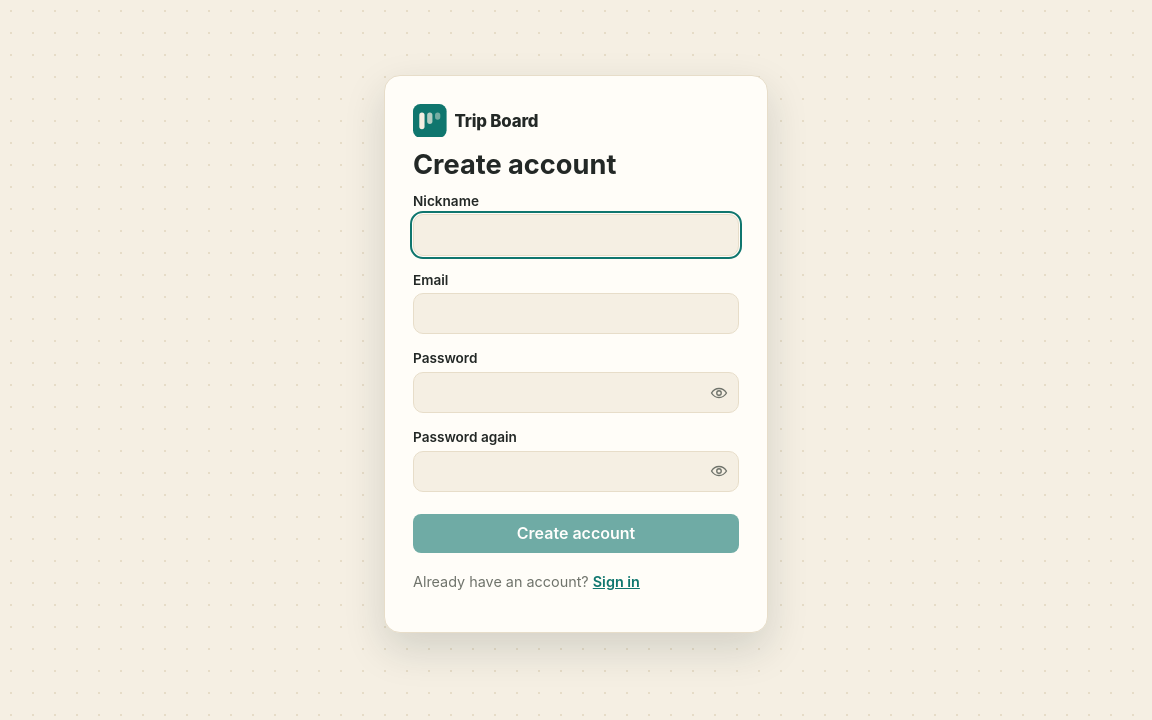
the sign-up password › says how strong the password is, and changes its mind as it grows
The image size is (1152, 720).
Type "1234aA" into the password field labelled "Password" at (576, 393), box [413,372,739,413]
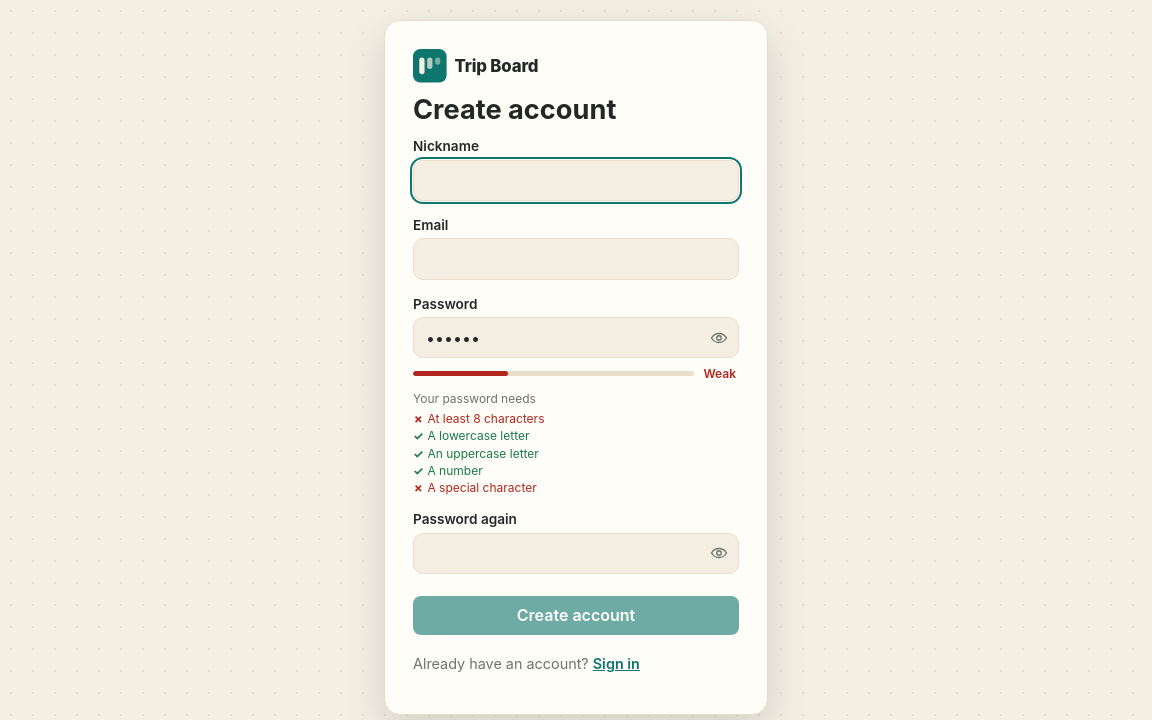
Now the message reads "Weak", box [703,366,736,381]
Clear the password field labelled "Password" at (576, 338), box [413,317,739,358]
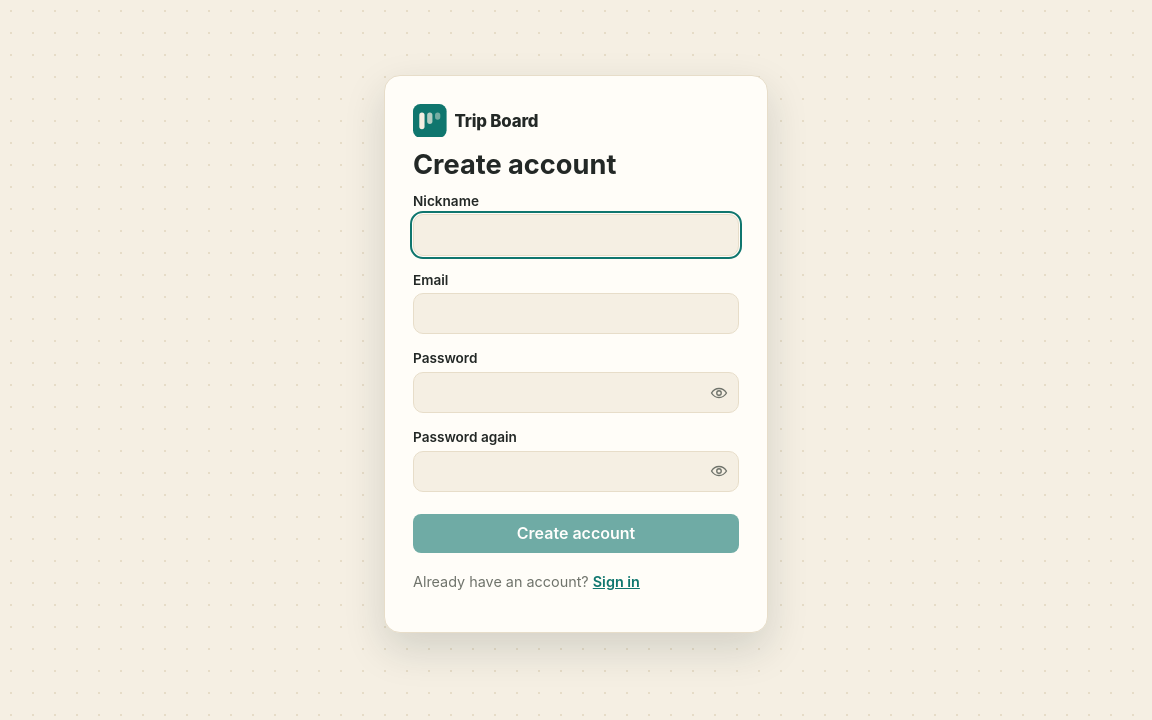
Type "Trip2026!" into the password field labelled "Password" at (576, 393), box [413,372,739,413]
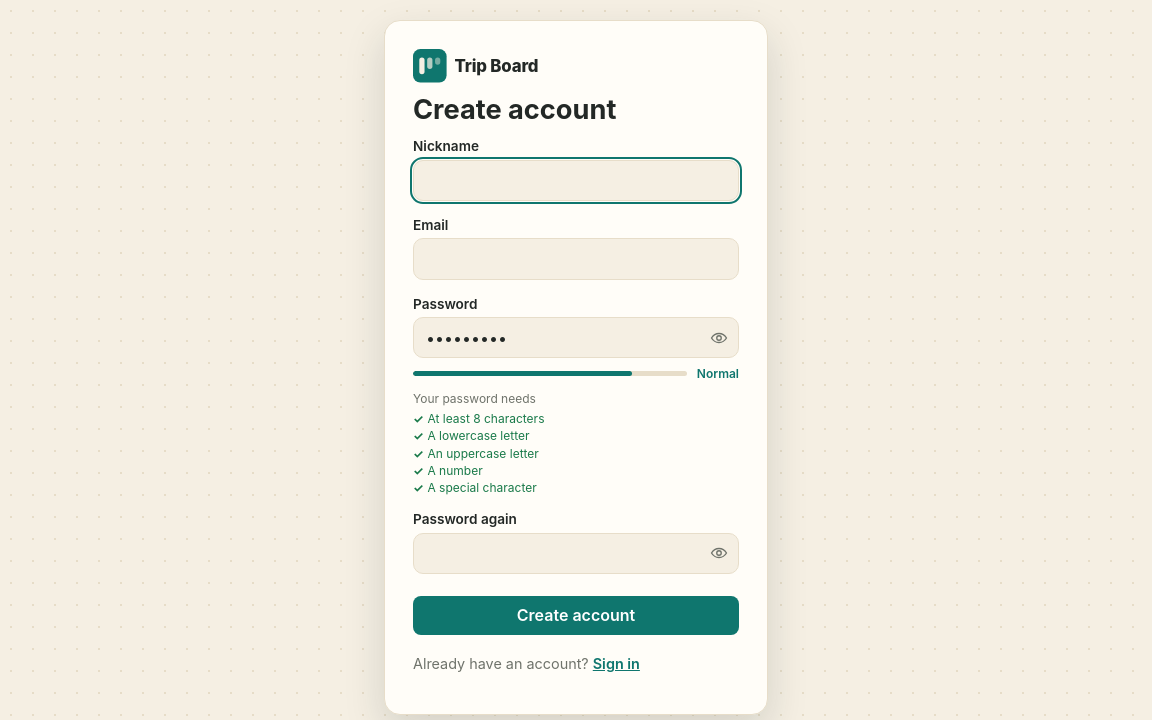
Now the message reads "Normal", box [697,366,739,381]
Clear the password field labelled "Password" at (576, 338), box [413,317,739,358]
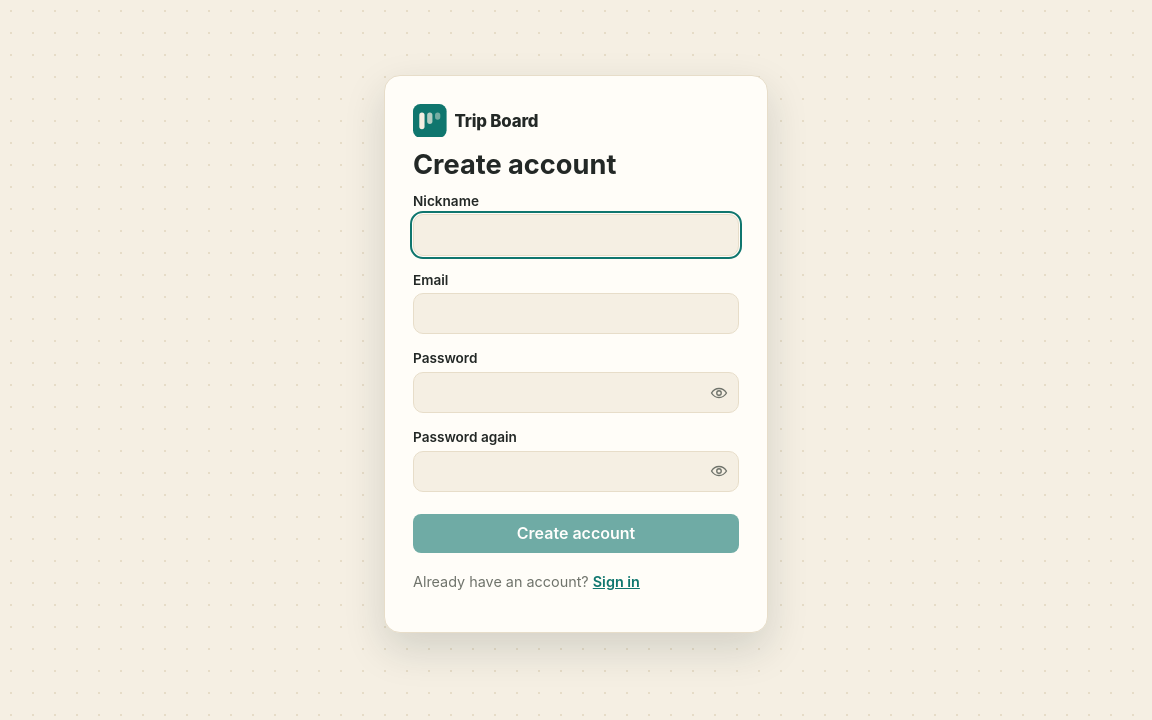
Type "Correct-Horse9Battery" into the password field labelled "Password" at (576, 393), box [413,372,739,413]
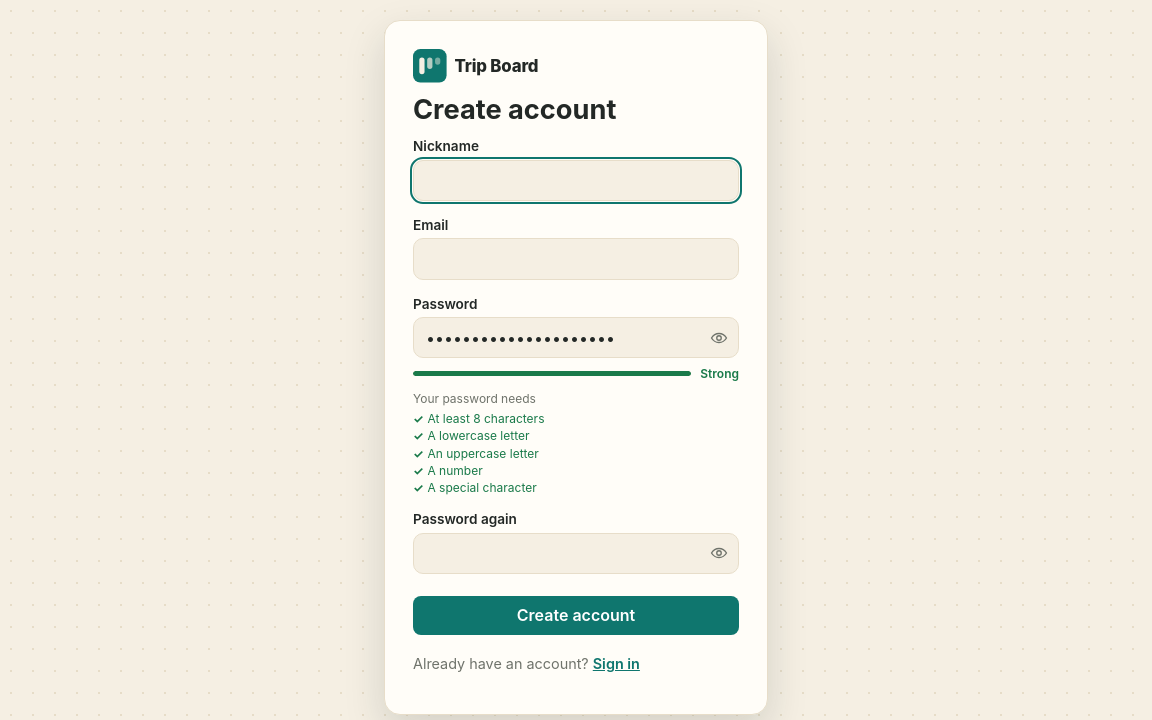
Now the message reads "Strong", box [700,366,739,381]
